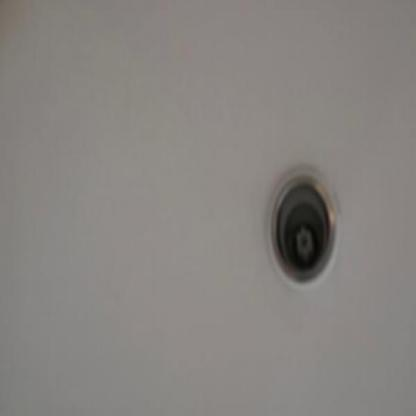light_off: (260, 133, 350, 296)
